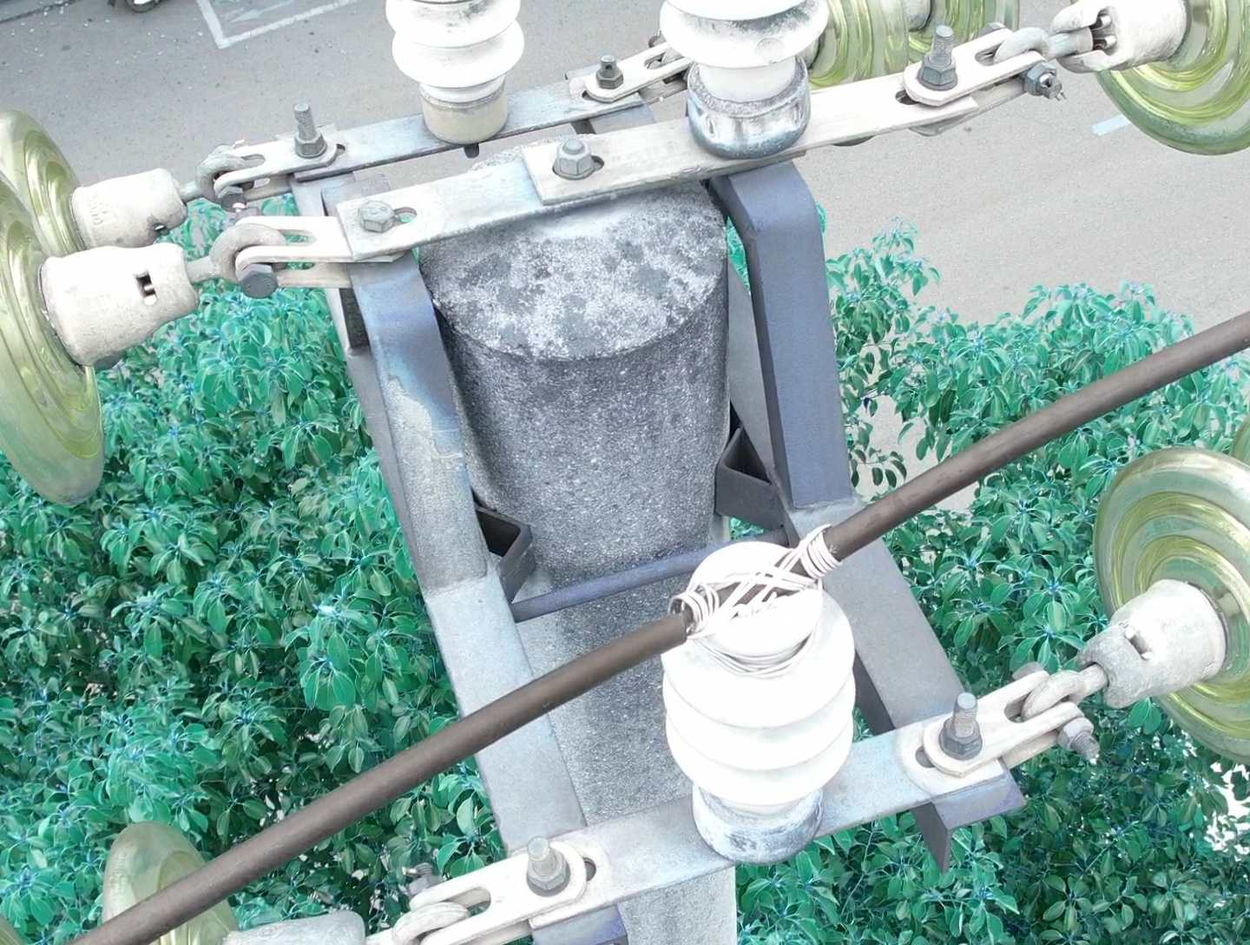severe_soiling_no_discharge_whole: (381, 3, 532, 142)
